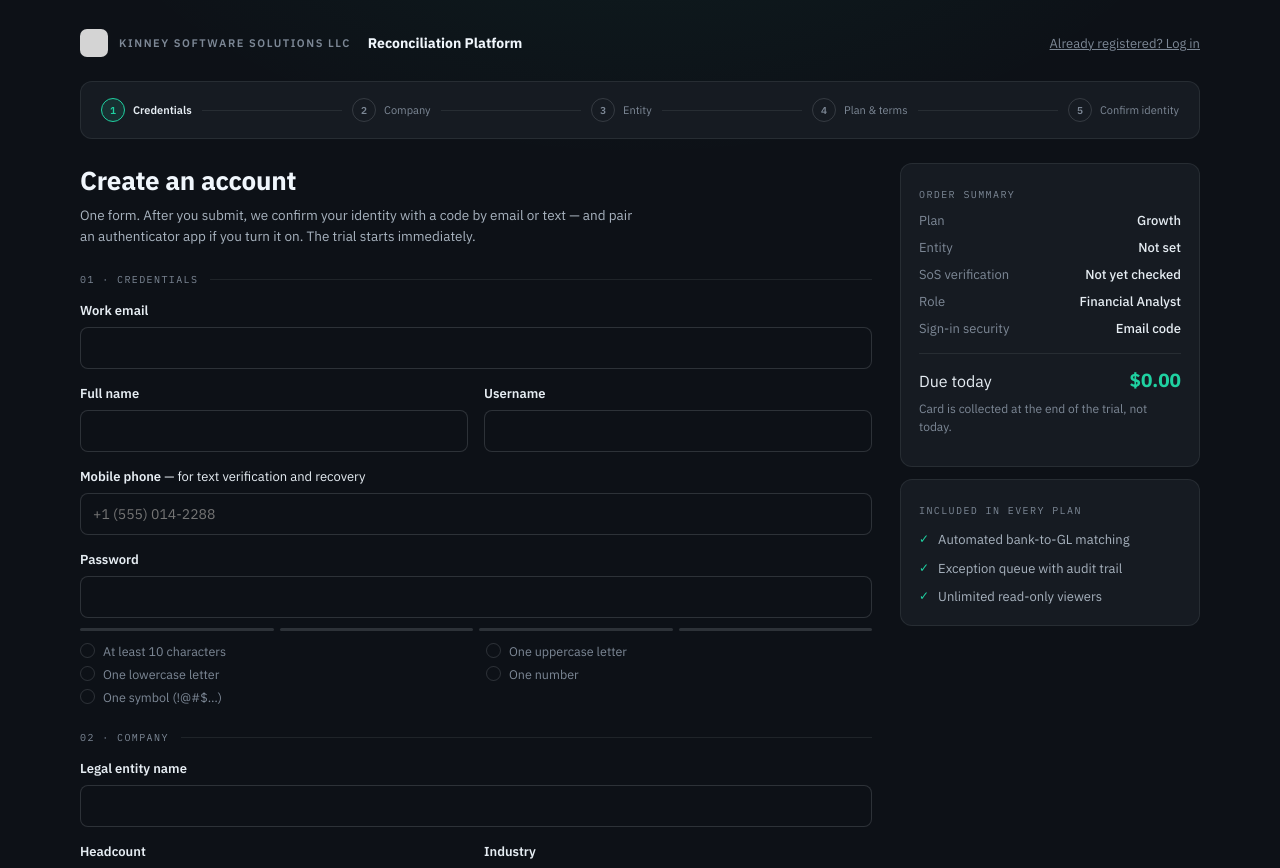
Test: Secretary of State entity verification › blocks the check when the filing number is too short
This screenshot has width=1280, height=868.
Type "Example Co" into the field labelled "Legal entity name" at (476, 806), box [80,785,872,827]
(page scrolled)
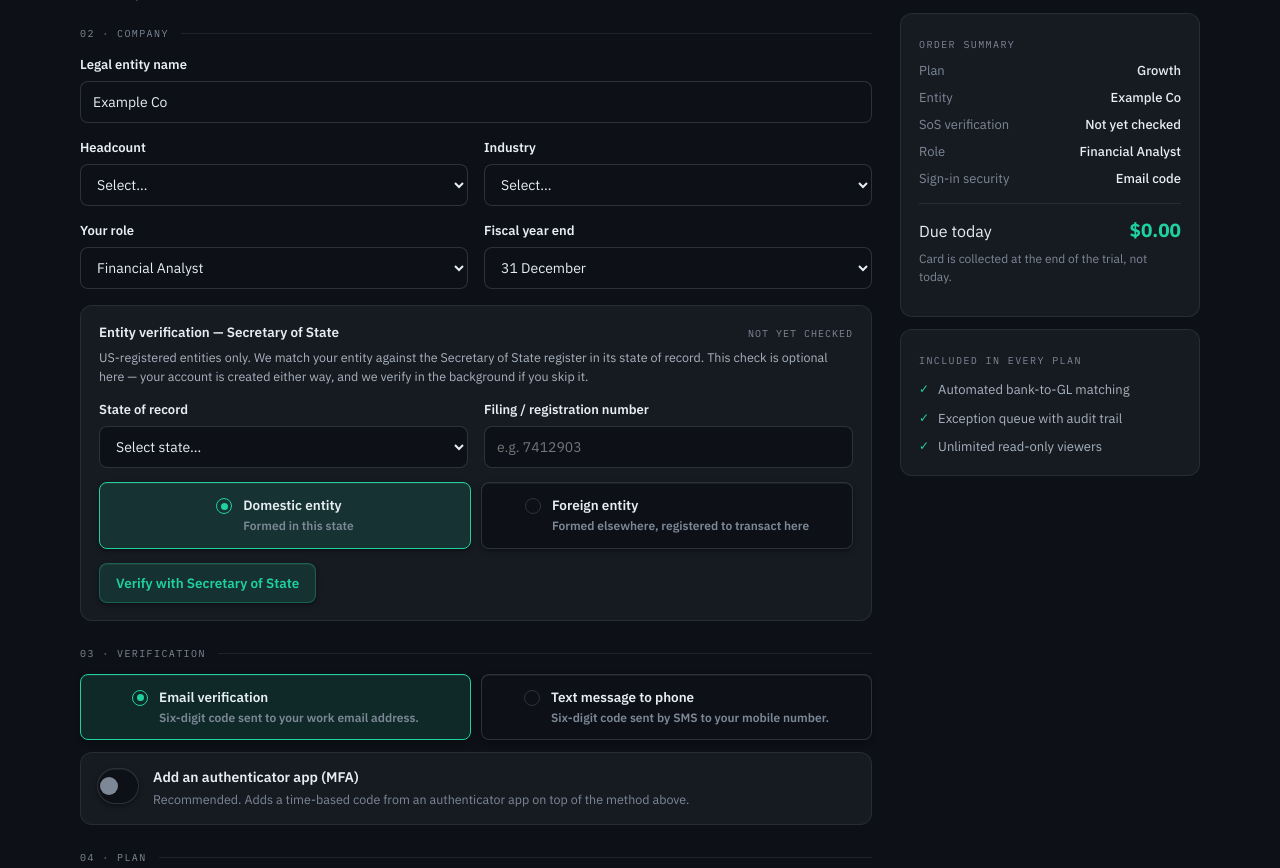
Select "Delaware" in the dropdown labelled "State of record" at (284, 447), box [99,426,468,468]
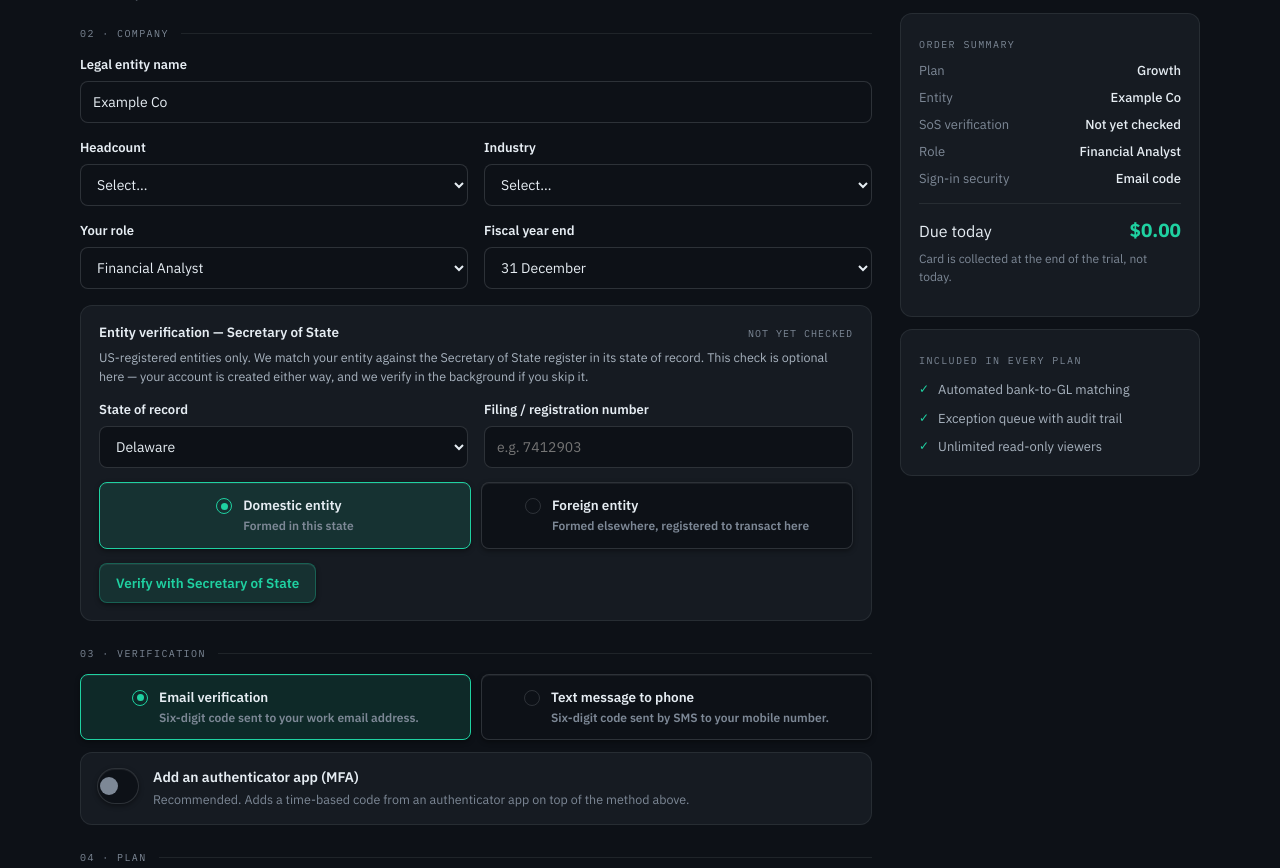
Type "12" into the field labelled "Filing / registration number" at (668, 447), box [484,426,853,468]
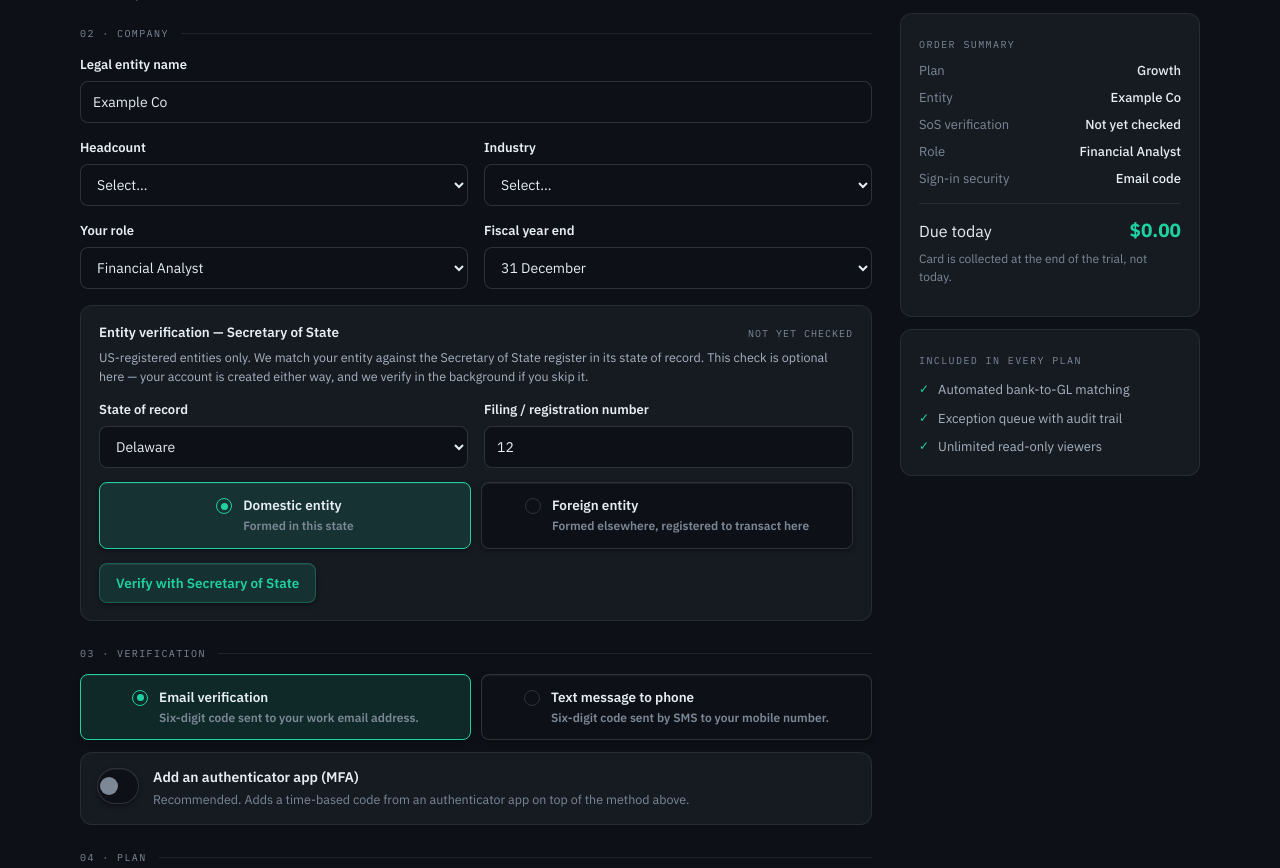
Click the button "Verify with Secretary of State" at (208, 583), box [99,563,316,603]
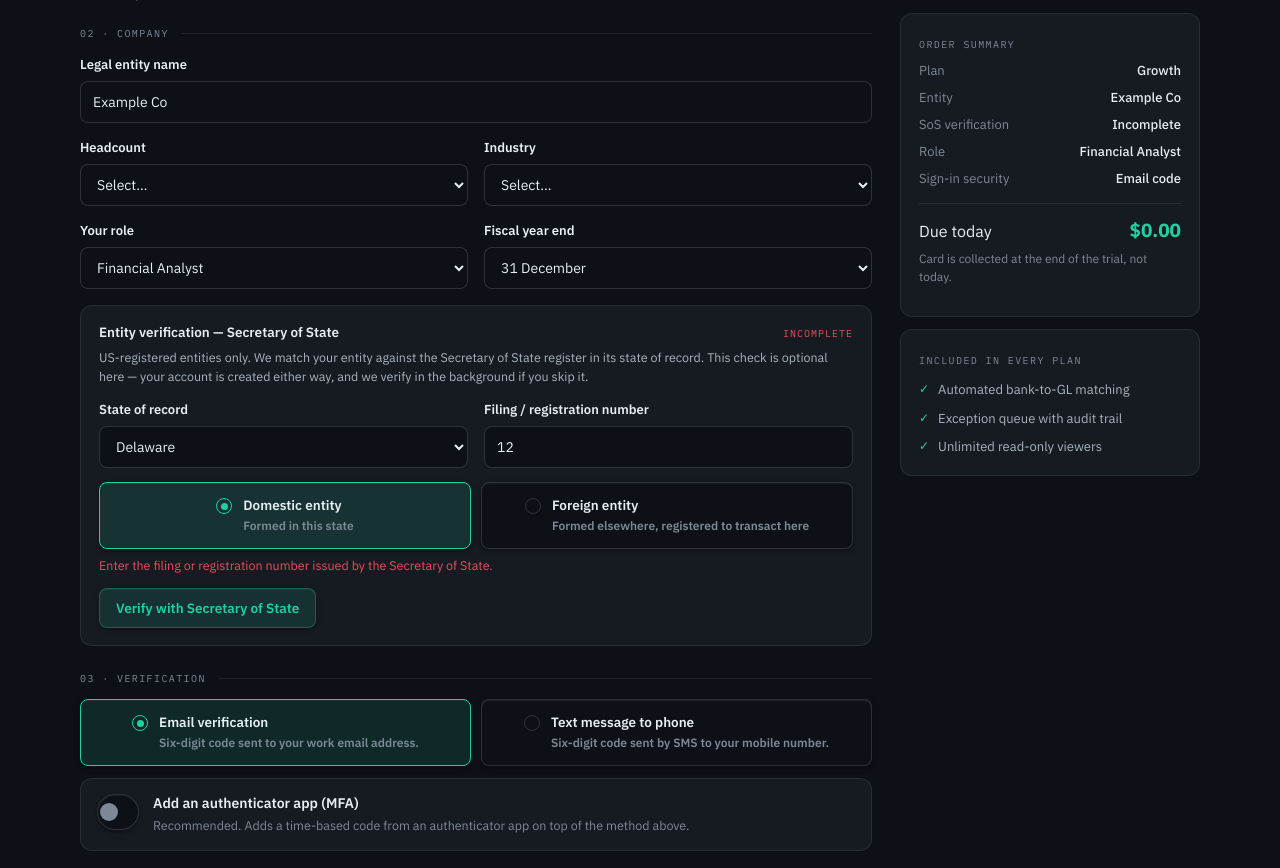
Check: the text "Enter the filing or registration number issued by the Secretary of State." is shown, box [99,557,493,573]
